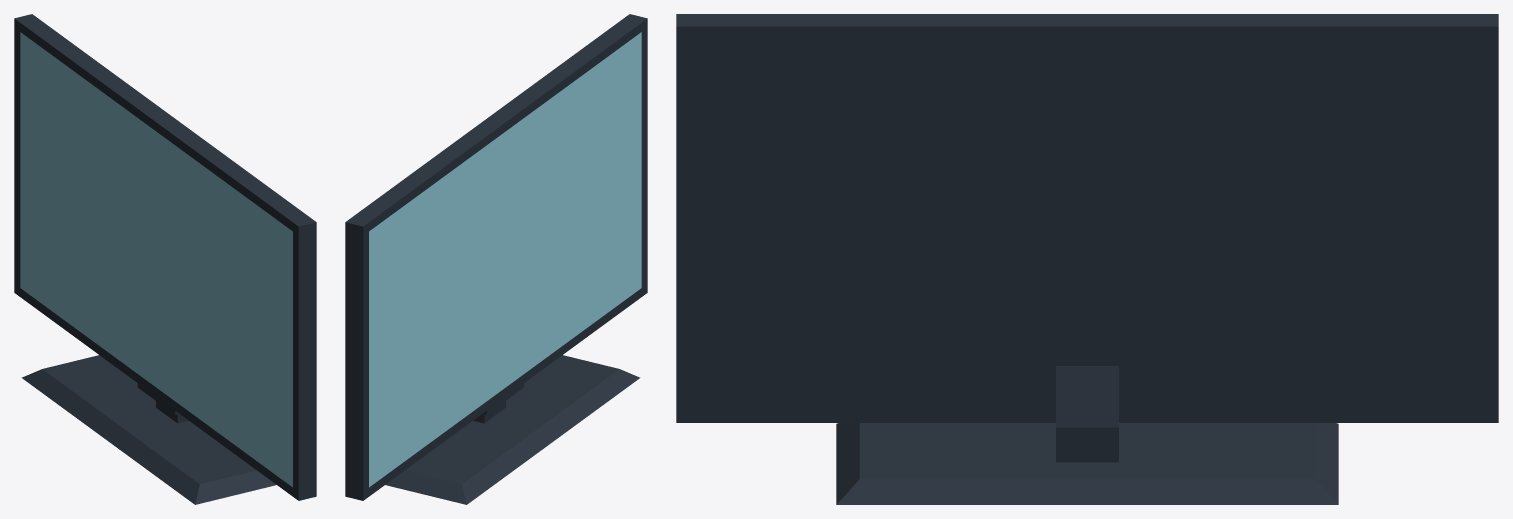
File: televisionModern.fbx
The picture shows the model from 3 angles, left to right: view 1: azimuth 30°, elevation 25°; view 2: azimuth 150°, elevation 25°; view 3: azimuth 270°, elevation 25°; orthographic projection. The views are drawn at different scales.
Parts seen in each view (by area): view 1: Cube.003, Cube.001, Cube; view 2: Cube.003, Cube.001, Cube; view 3: Cube.001, Cube, Cube.002.
Boxes of the visible parts, x1,y1,x2,y2 form: Cube.003: (20,32,292,487); Cube.001: (14,14,316,500); Cube: (21,355,276,504); Cube.003: (369,32,641,487); Cube.001: (345,14,647,500); Cube: (385,355,640,504); Cube.001: (676,14,1498,422); Cube: (836,423,1338,504); Cube.002: (1056,366,1118,462).
Size of the model in its own units: 143 by 365 by 613.
